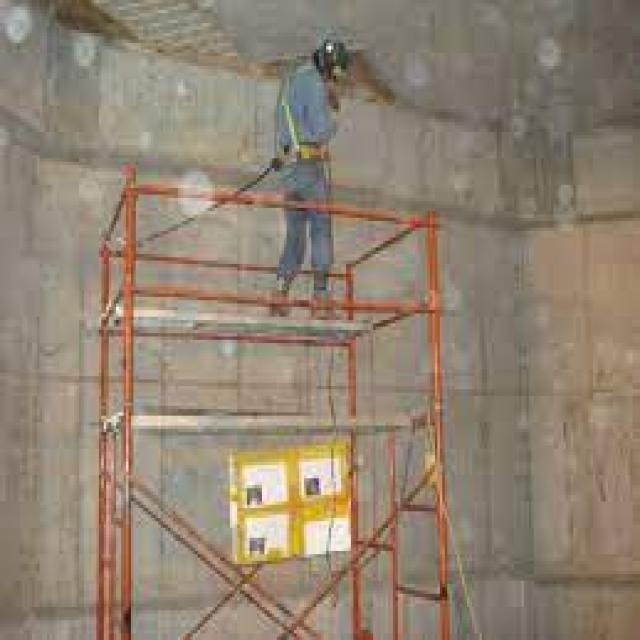Arnes_seguridad: (286, 143, 328, 160)
